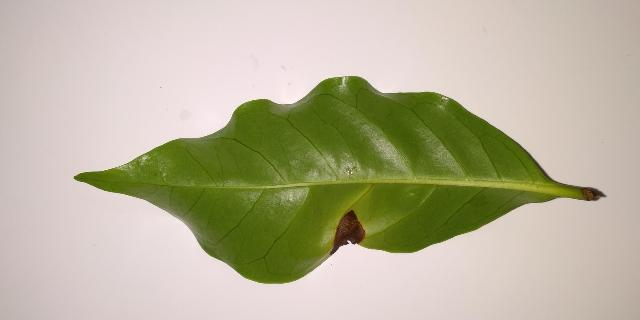rust: (328, 210, 366, 255)
